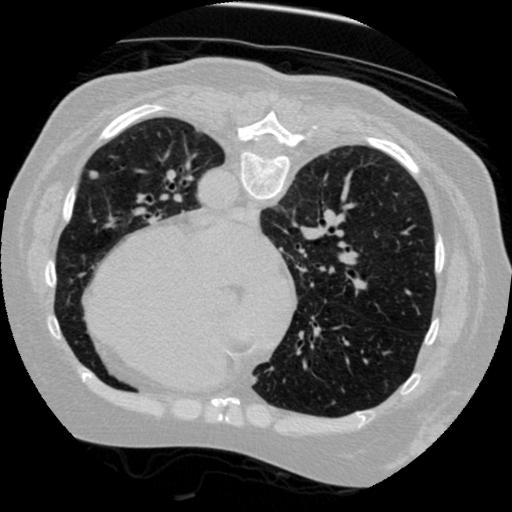nodule: (87, 168, 103, 184)
